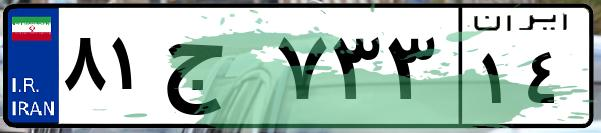1: (475, 38, 525, 113), (110, 28, 158, 98)
3: (385, 28, 445, 110), (330, 28, 385, 110)
4: (525, 38, 570, 115)
7: (270, 28, 330, 110)
8: (57, 26, 110, 100)
ج: (158, 20, 270, 120)
